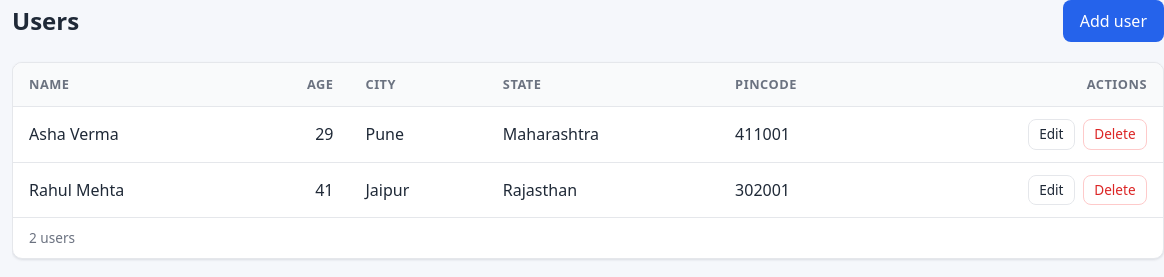
Scenario: UserListPage › deletes a user after confirmation and removes the row
The width and height of the screenshot is (1164, 277).
Click the button with aria-label "Delete Asha Verma" at (1115, 134), box [1083, 119, 1147, 150]
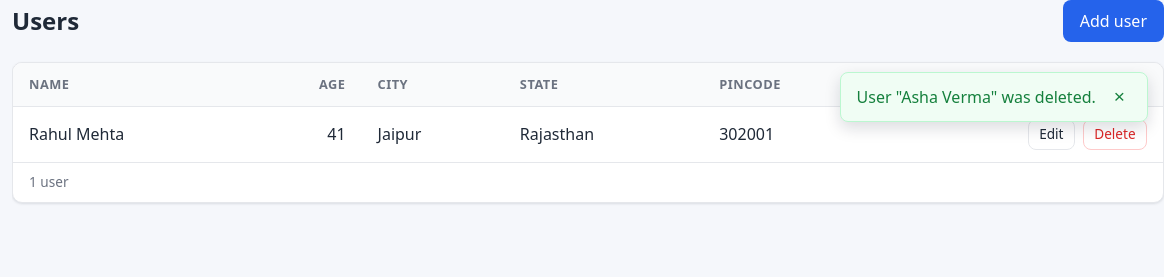
expect the message shows "User \"Asha Verma\" was deleted.": met, box [857, 86, 1096, 108]
expect the text "1 user" is shown: met, box [29, 172, 68, 191]
